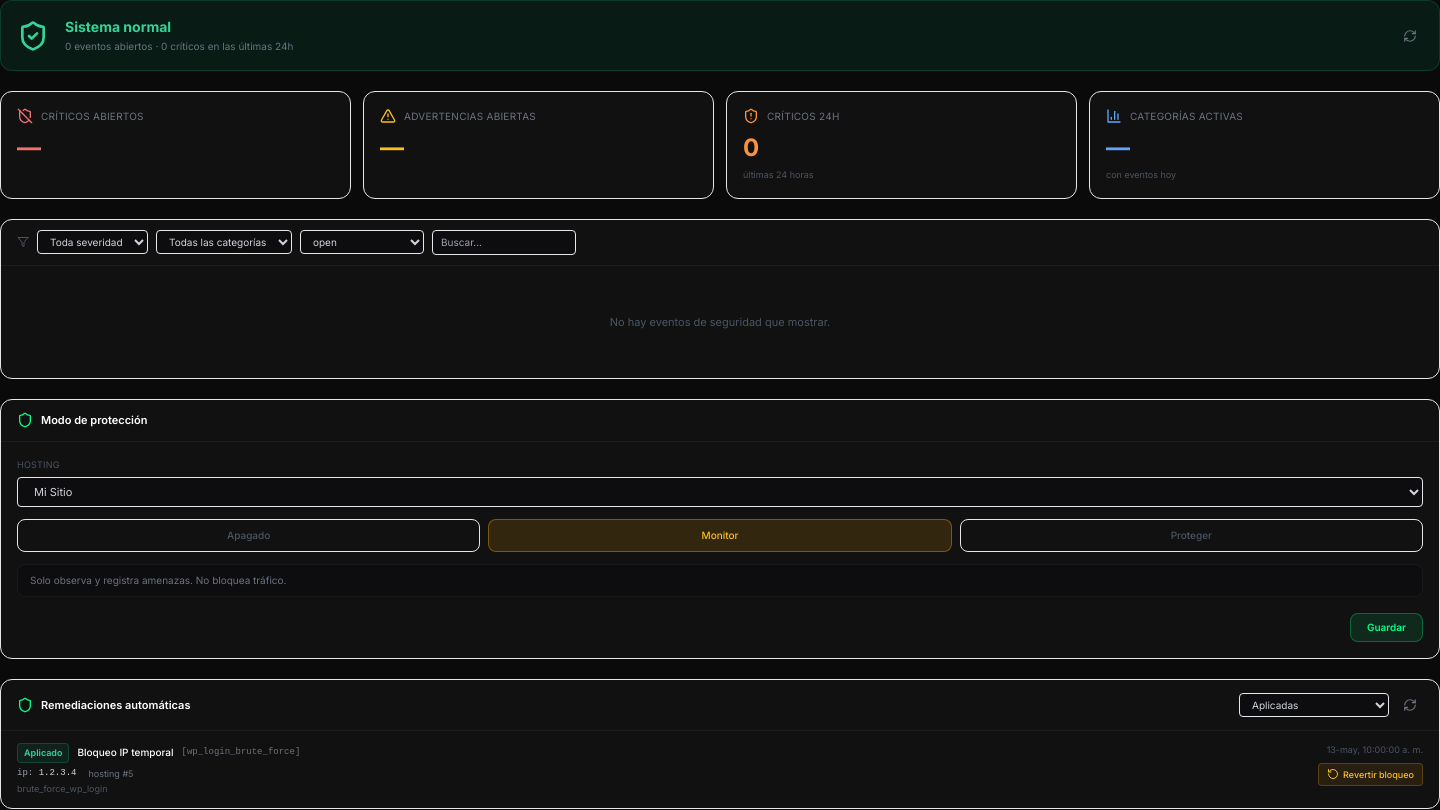
Test: SecurityCenter — RemediationsSection › clicking rollback opens confirmation dialog
The image size is (1440, 810).
Click the button with test id "rollback-btn": (1371, 774) x1=1318 y1=762 x2=1423 y2=786
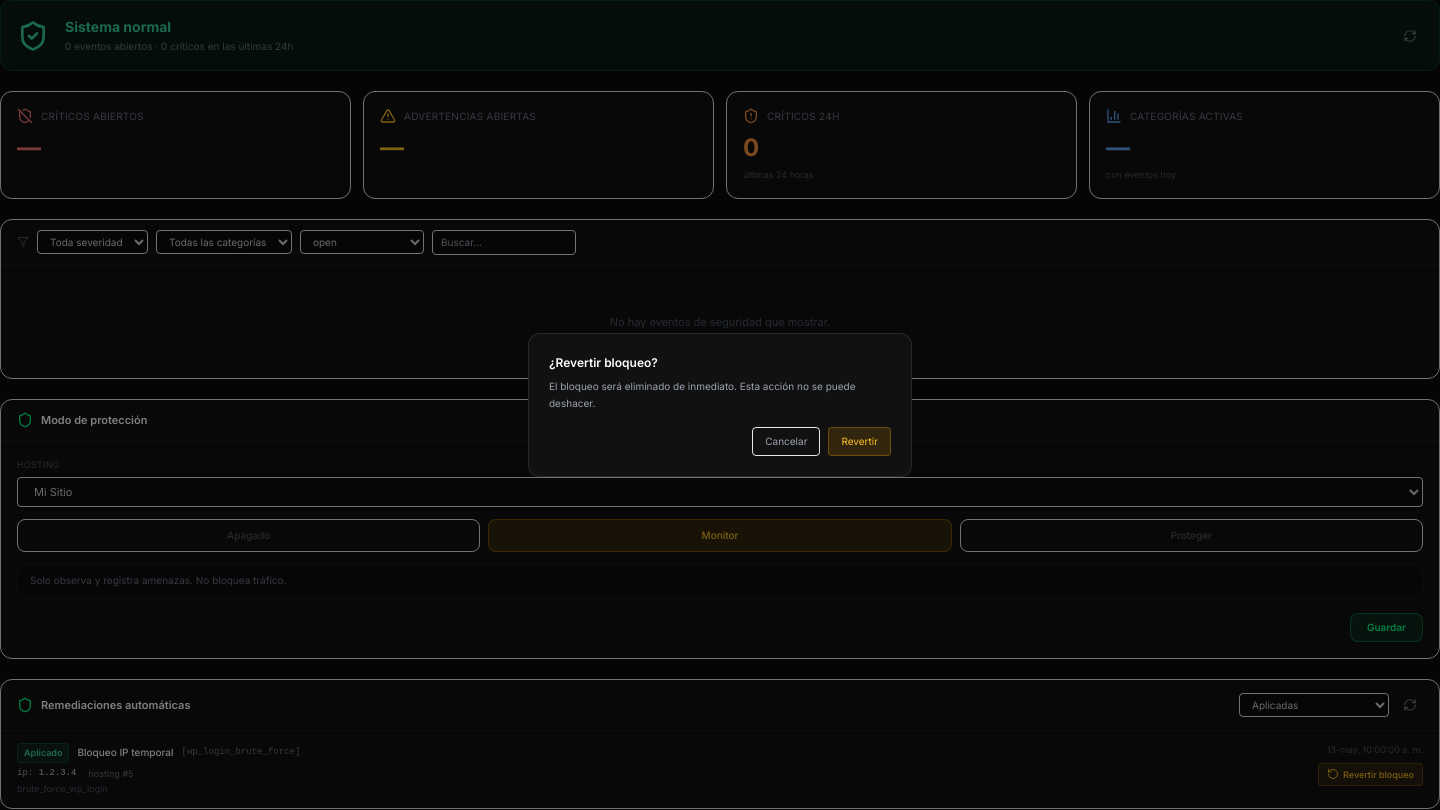
Result: the element with test id "rollback-confirm-dialog" is shown
